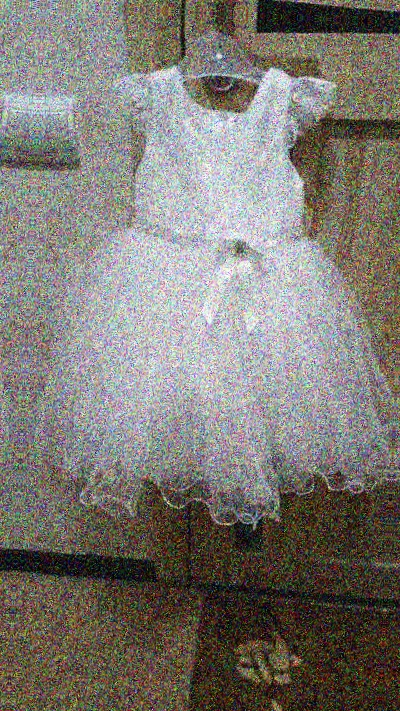Dress: (30, 32, 400, 542), (0, 13, 29, 523), (389, 50, 400, 560)
